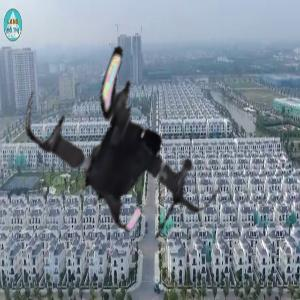drone: (19, 23, 246, 250)
